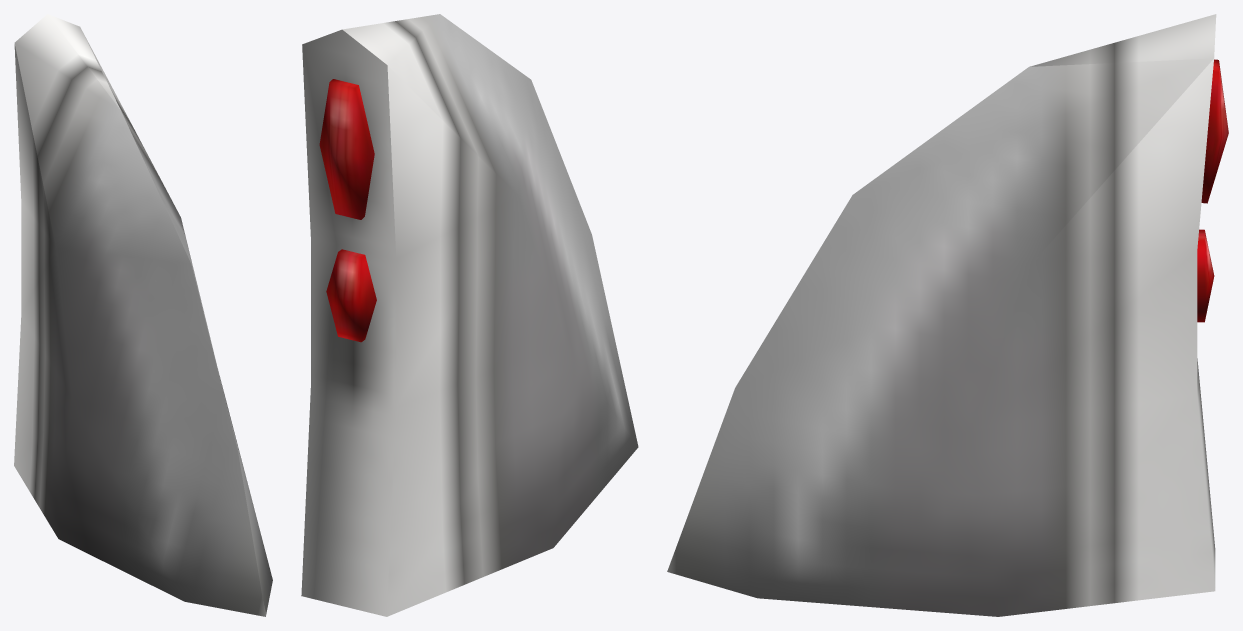
The model's file is acc_35.glb.
3 renders of one model, left to right at view 1: azimuth 30°, elevation 25°; view 2: azimuth 150°, elevation 25°; view 3: azimuth 270°, elevation 25°, orthographic. The views are drawn at different scales.
Parts seen in each view (by area): view 1: vertex; view 2: vertex, lights; view 3: vertex, lights.
Part boxes in pixels (x1=…): vertex: x1=14, y1=14, x2=272, y2=616; vertex: x1=301, y1=14, x2=638, y2=616; lights: x1=319, y1=79, x2=376, y2=342; vertex: x1=667, y1=14, x2=1216, y2=616; lights: x1=1197, y1=59, x2=1228, y2=322.
Bounding box in the file's own units: 0.2572 × 0.7302 × 0.6664.
Materials: 1 (1 with a texture image).
